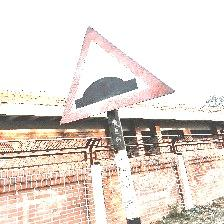Speed-breaker: (60, 26, 175, 124)
